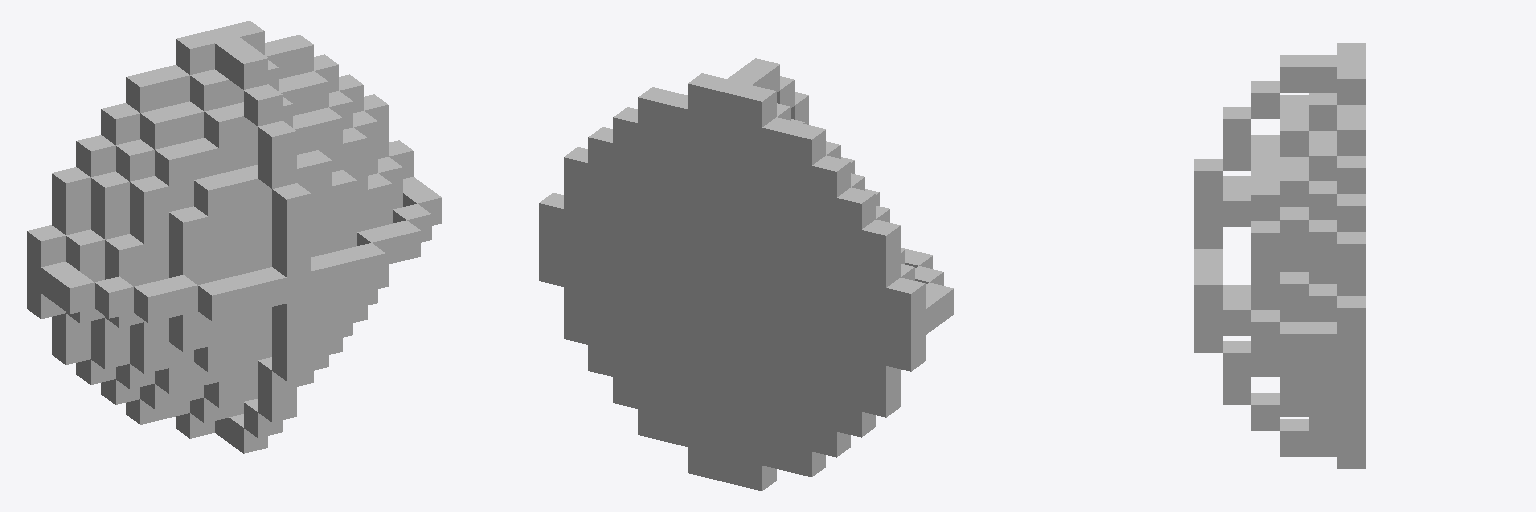
The model's file is lamp red.obj.
3 renders of one model, left to right at view 1: azimuth 30°, elevation 25°; view 2: azimuth 150°, elevation 25°; view 3: azimuth 270°, elevation 25°, orthographic.
Parts seen in each view (by area): view 1: object 1; view 2: object 1; view 3: object 1.
Boxes of the visible parts, box(x1,y1,x2,y2) form: object 1: box(27, 21, 441, 453); object 1: box(539, 58, 953, 490); object 1: box(1194, 43, 1365, 468).
Bounding box in the file's own units: 1.5 × 1.5 × 0.6.